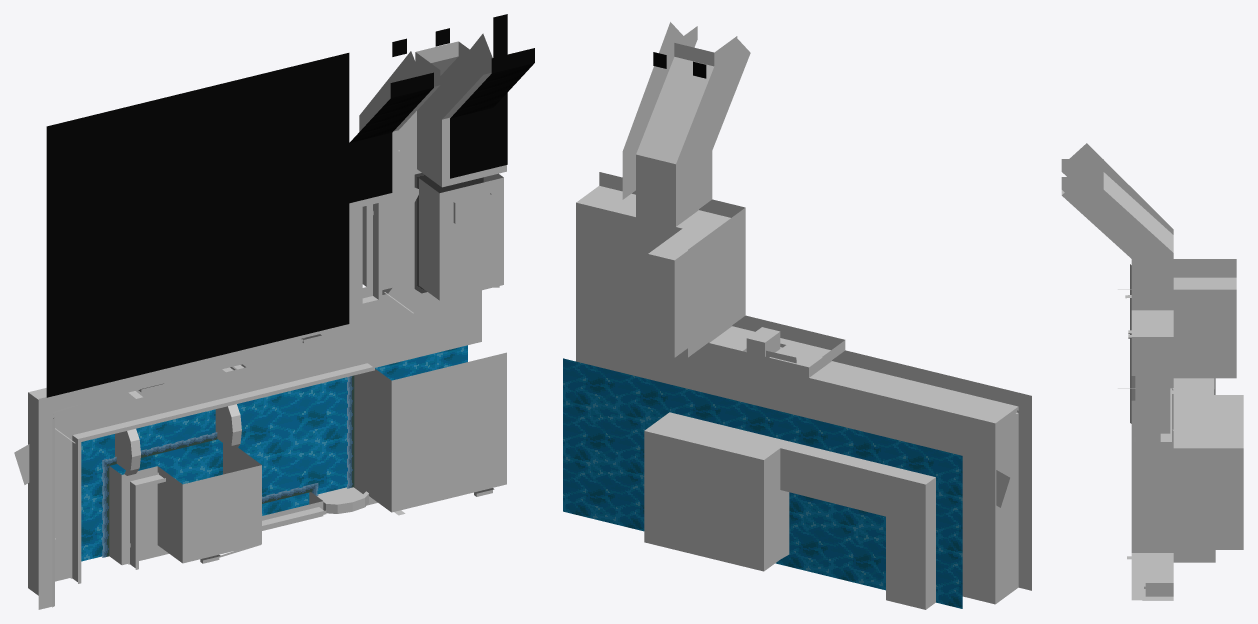
The model's file is Sewer-Main_00_01.obj.
3 views of the same model, side by side, from view 1: azimuth 30°, elevation 25°; view 2: azimuth 150°, elevation 25°; view 3: azimuth 270°, elevation 25° (orthographic). The views are drawn at different scales.
Parts seen in each view (by area): view 1: map; view 2: map; view 3: map.
Boxes of the visible parts, box(x1,y1,x2,y2) form: map: box(14, 14, 534, 609); map: box(563, 22, 1031, 609); map: box(1061, 143, 1243, 600).
Size of the model in its own units: 32.92 by 32.95 by 13.1.
